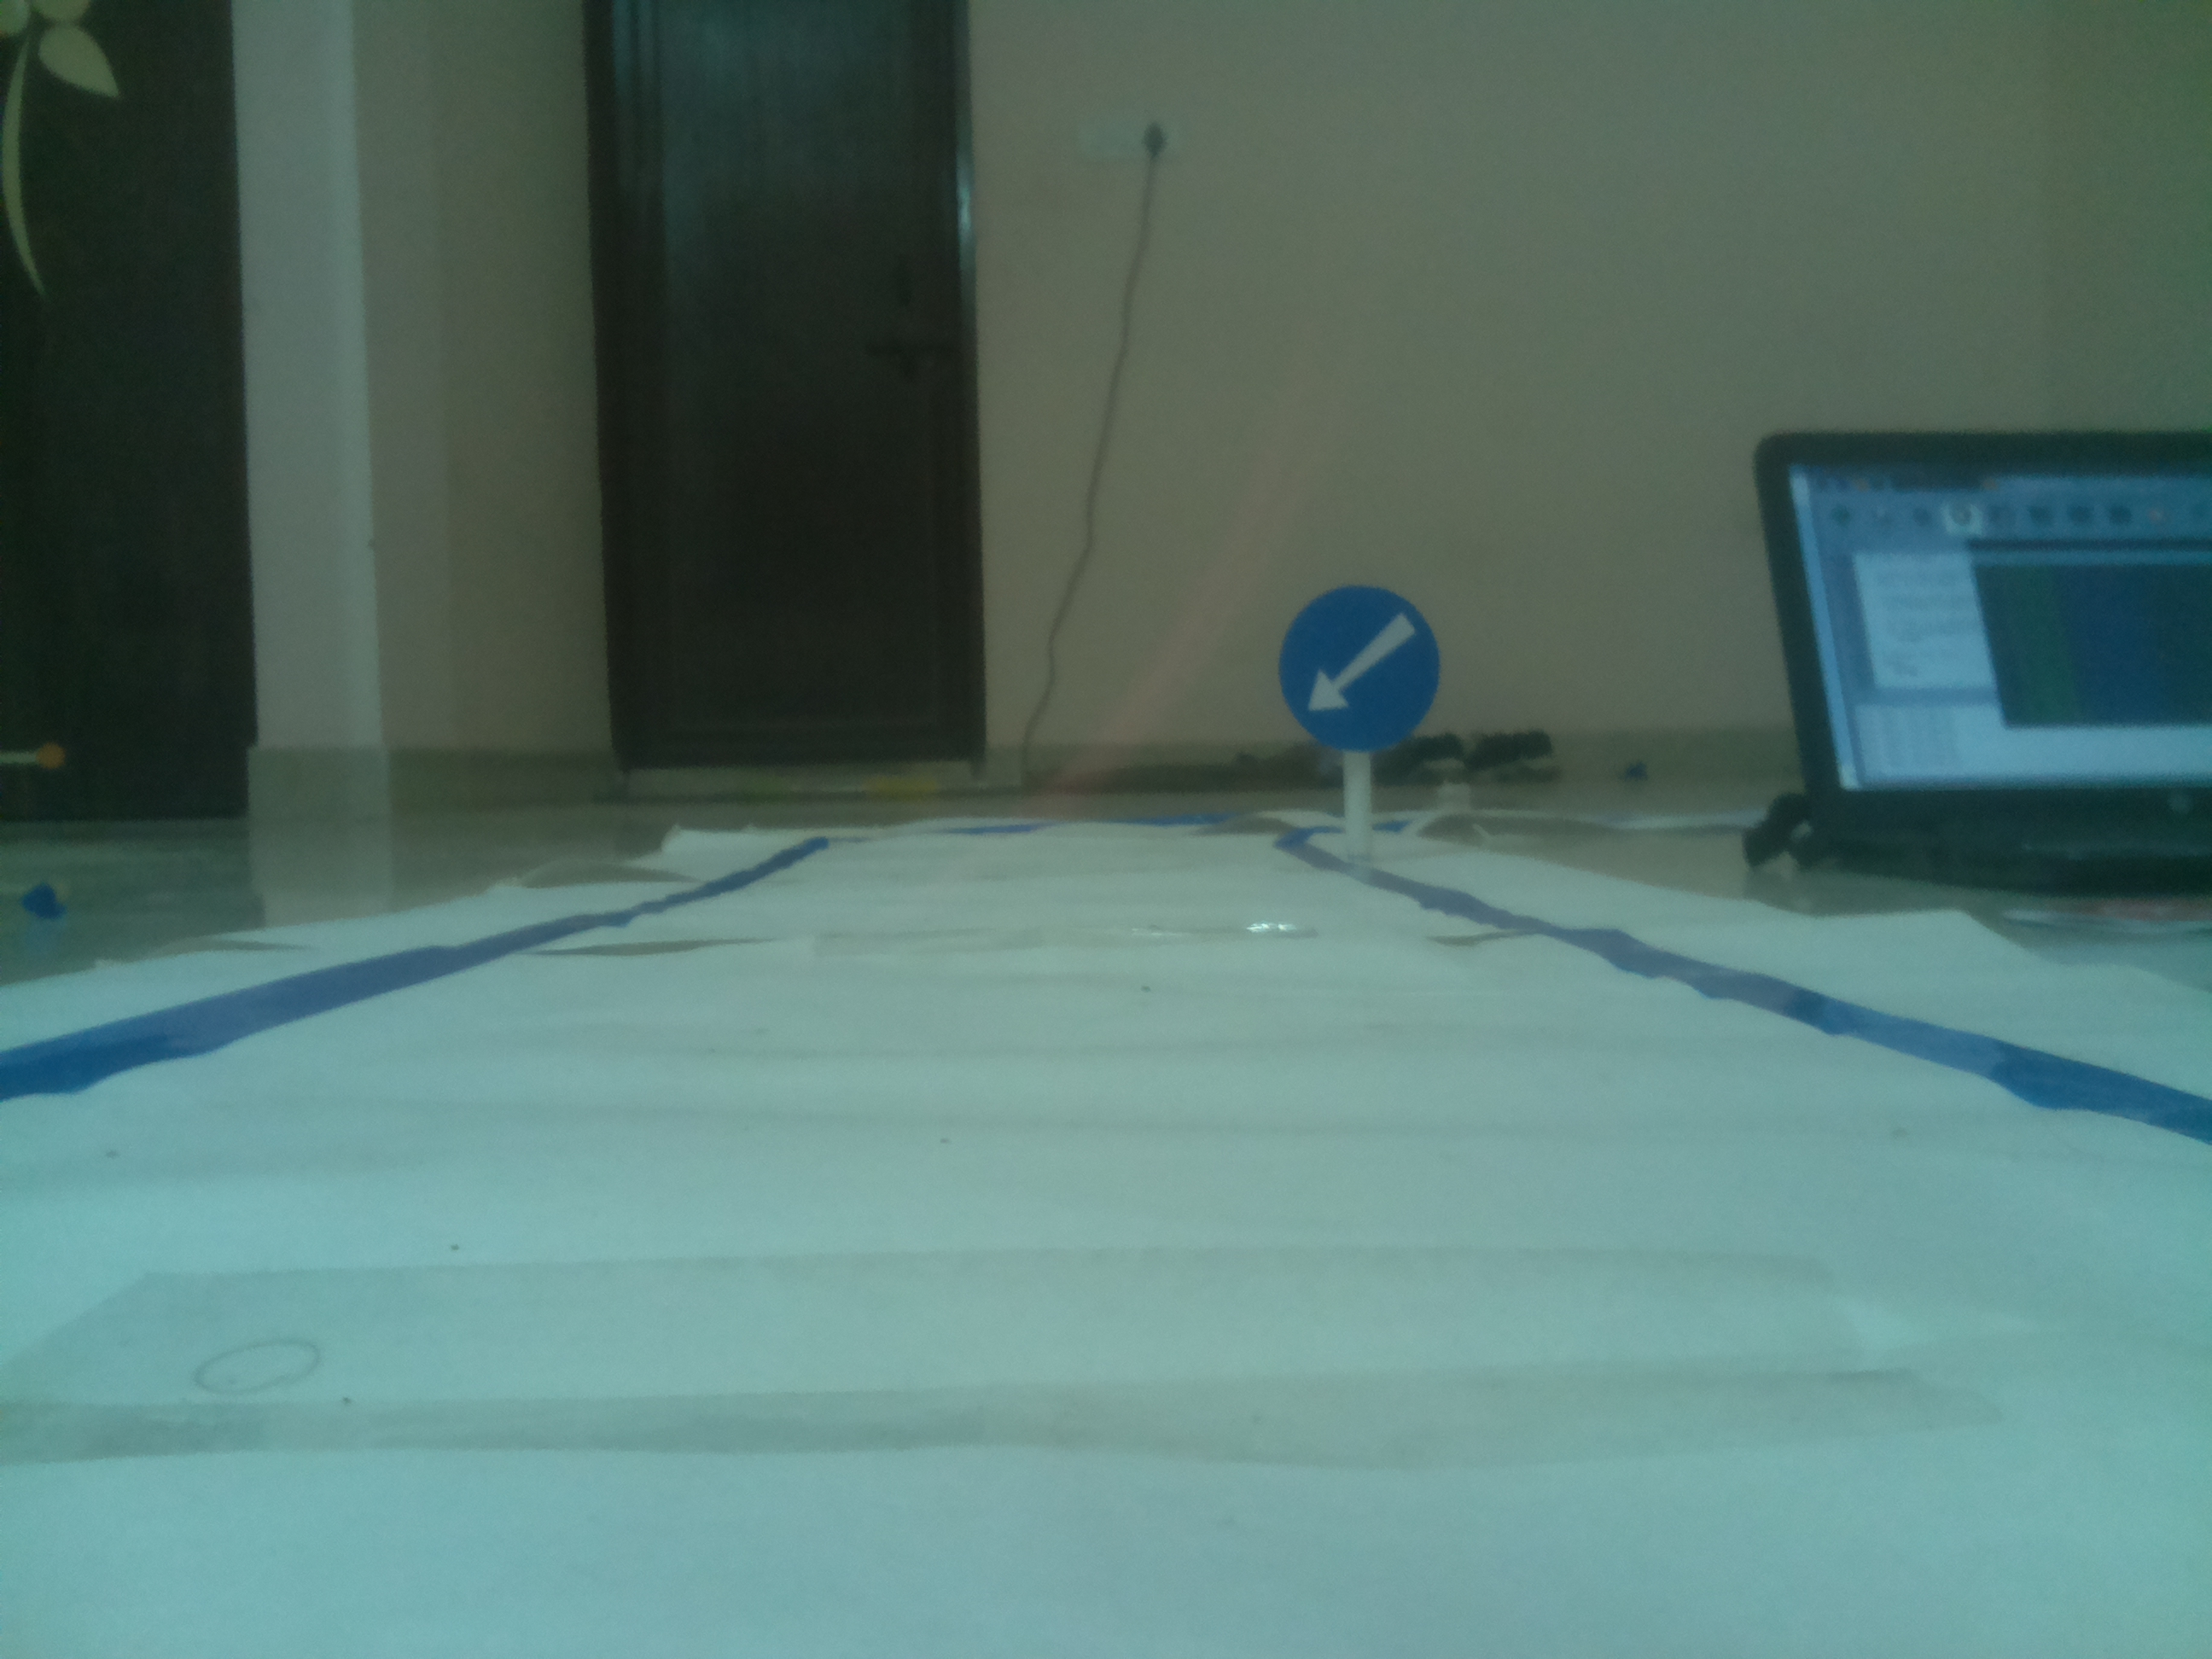keep-left: (1261, 589, 1444, 767)
